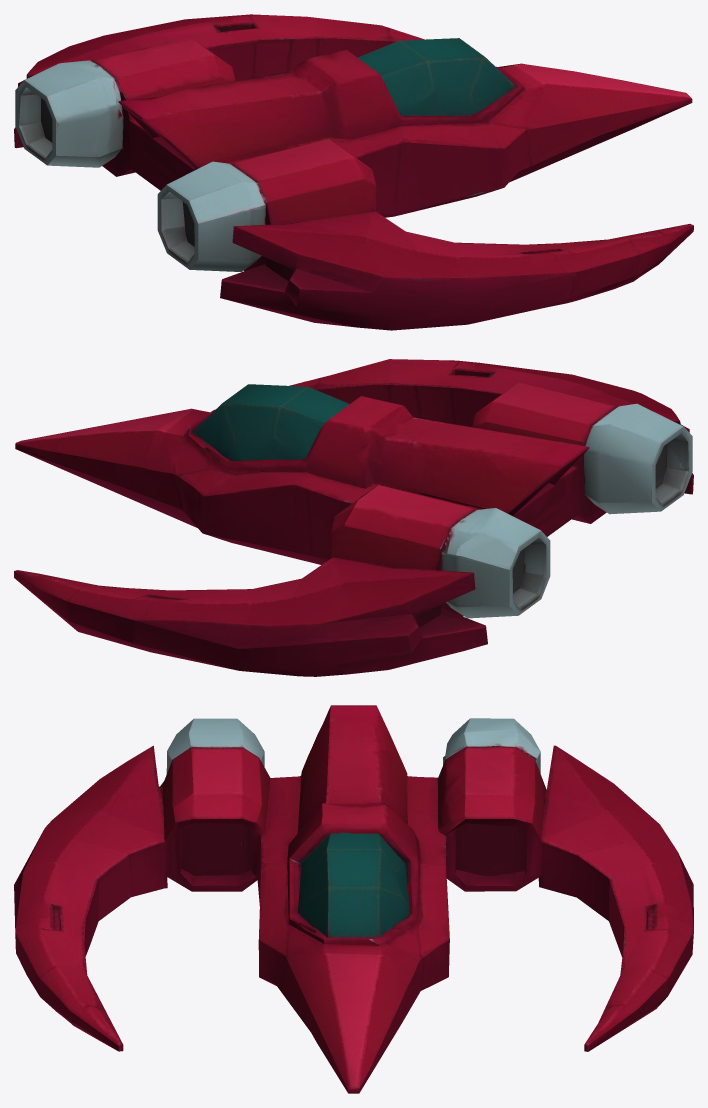
The model's file is nave_03.obj.
The picture shows the model from 3 angles, top to bottom: view 1: azimuth 30°, elevation 25°; view 2: azimuth 150°, elevation 25°; view 3: azimuth 270°, elevation 25°; orthographic projection. The views are drawn at different scales.
Visible parts, largest first — view 1: geometry_0; view 2: geometry_0; view 3: geometry_0.
Part boxes in pixels (box(x1,y1,x2,y2)): geometry_0: box(14, 14, 693, 330); geometry_0: box(14, 359, 693, 676); geometry_0: box(14, 705, 693, 1093).
Bounding box in the file's own units: 6.72 × 1.64 × 7.
Materials: 1 (1 with a texture image).
